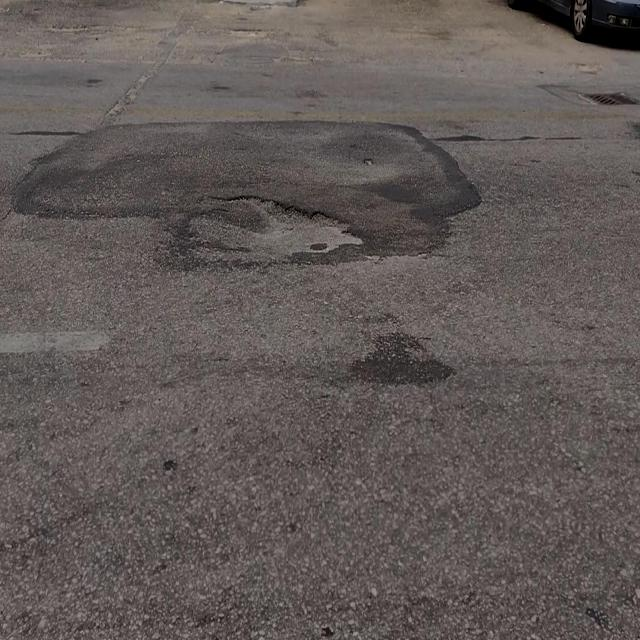Potholes: (179, 192, 370, 272)
